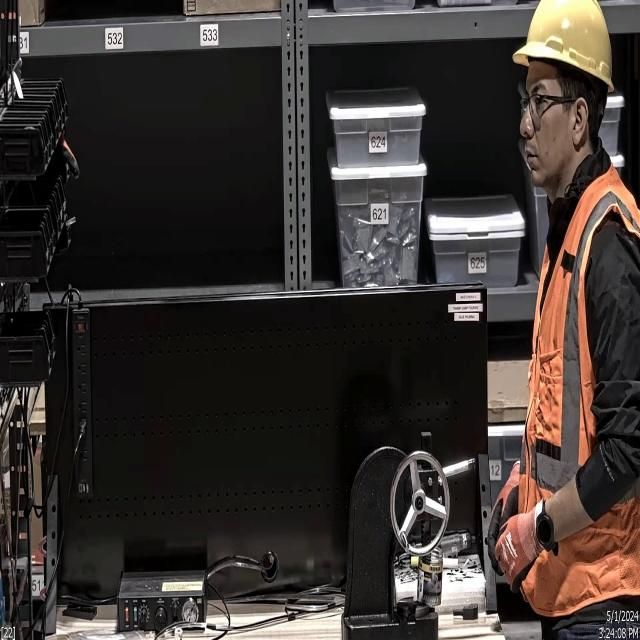construction-gloves: (484, 506, 542, 600)
